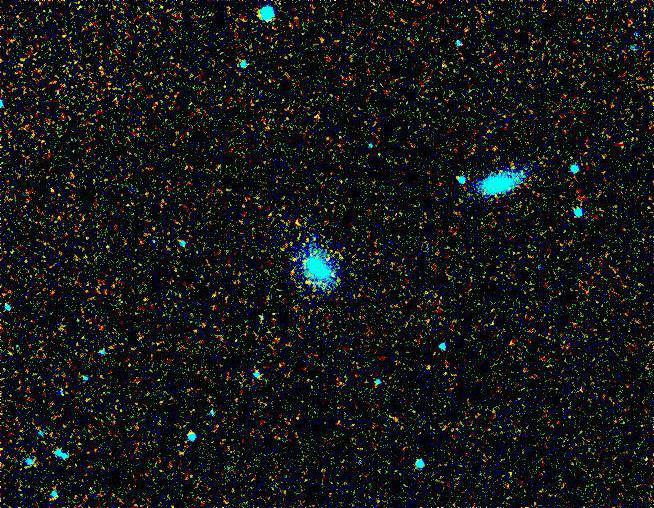star: (480, 134, 510, 164)
